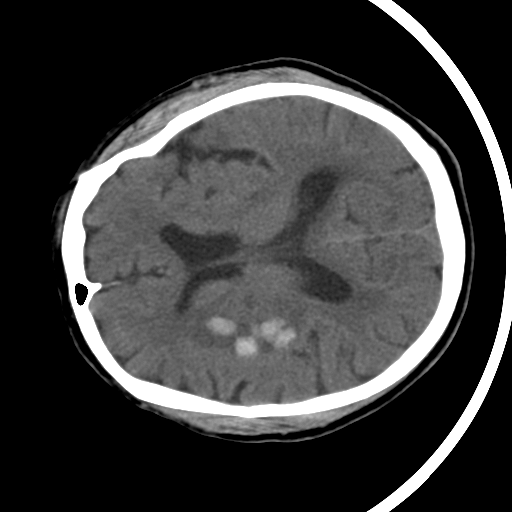a: (165, 290, 315, 372)
